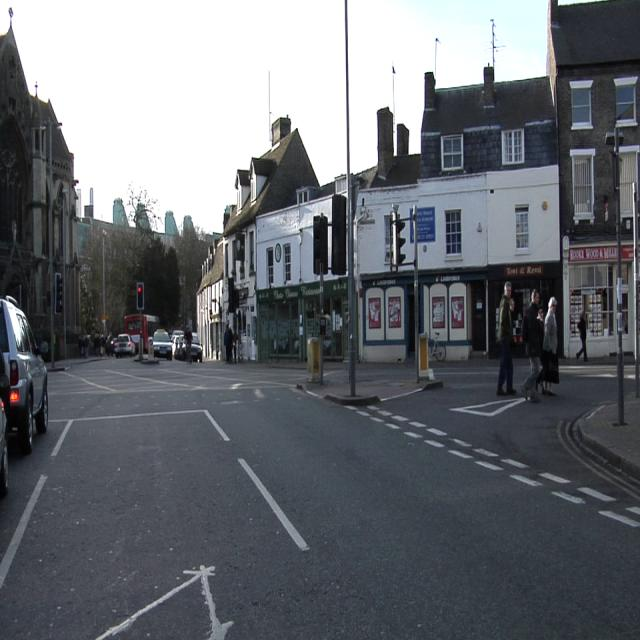Building: (254, 62, 639, 360), (197, 118, 316, 359), (1, 13, 78, 352), (78, 185, 213, 335)
Car: (1, 296, 47, 451), (0, 408, 7, 497), (153, 331, 171, 359), (115, 334, 135, 357), (191, 333, 202, 362)
Road: (0, 358, 639, 623)
Tree: (127, 178, 158, 231)
person: (524, 293, 542, 399), (497, 284, 514, 394), (544, 299, 558, 393), (577, 311, 587, 359)
